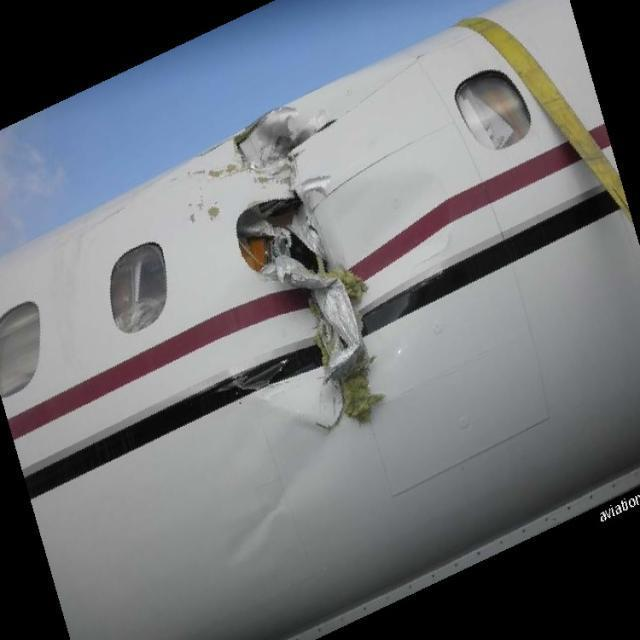crack: (212, 89, 383, 444)
dent: (351, 169, 457, 303), (220, 489, 290, 575)
